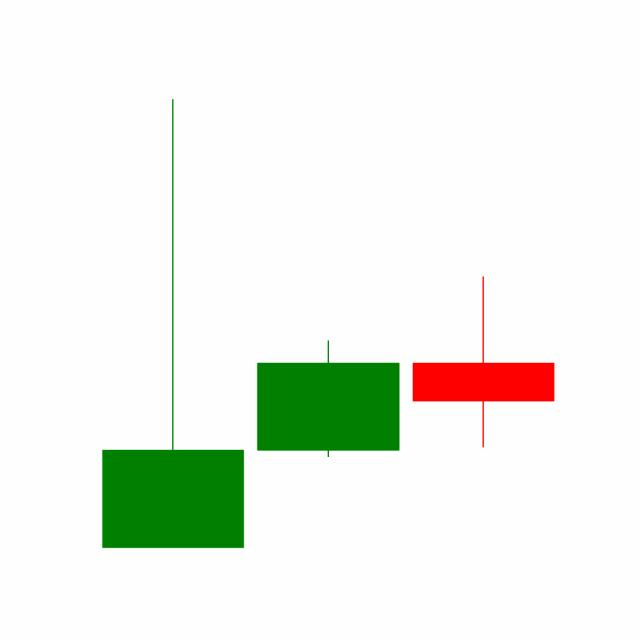Marubozu: (249, 338, 406, 459)
